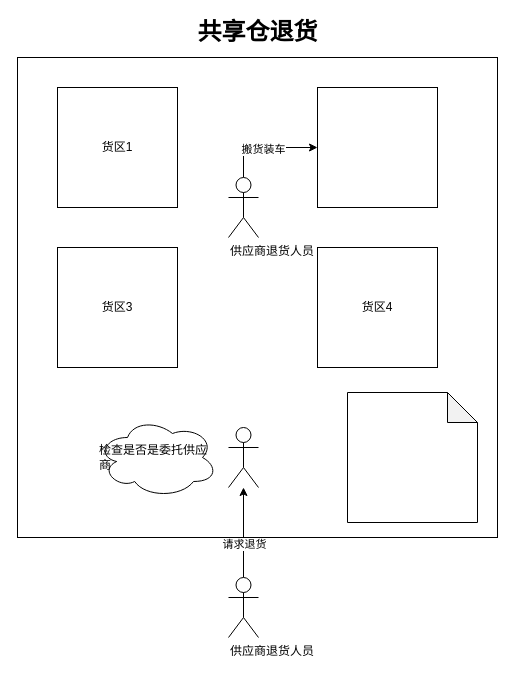
Some shapes in this 515 by 675 pixel diagram are drawn without their labels. Here are the shapes that lost their labels. From the top down, the box of each, then its label:
(316, 86, 438, 208): 货区2
(228, 426, 258, 488): 收货员
(346, 392, 478, 522): 商品在活动日期，有剩余，同时该商品的供应商，不打算支付仓储费用或者该商品更换了供应商，供应商请求退货
